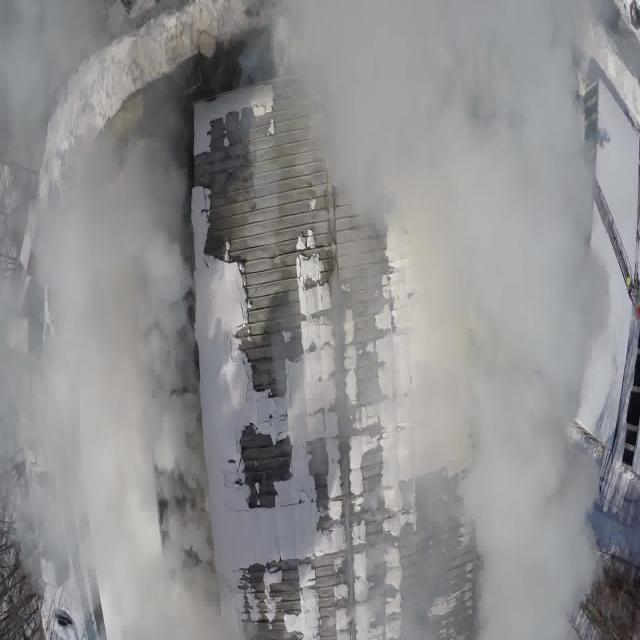smoke: (327, 2, 596, 640), (9, 8, 197, 632)
